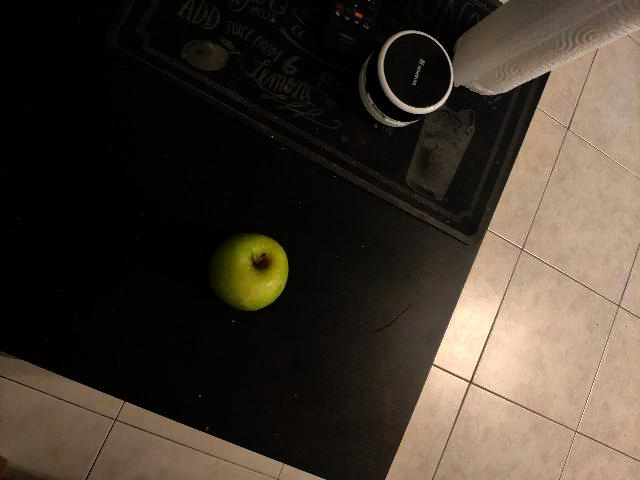apple: (391, 335, 478, 433)
